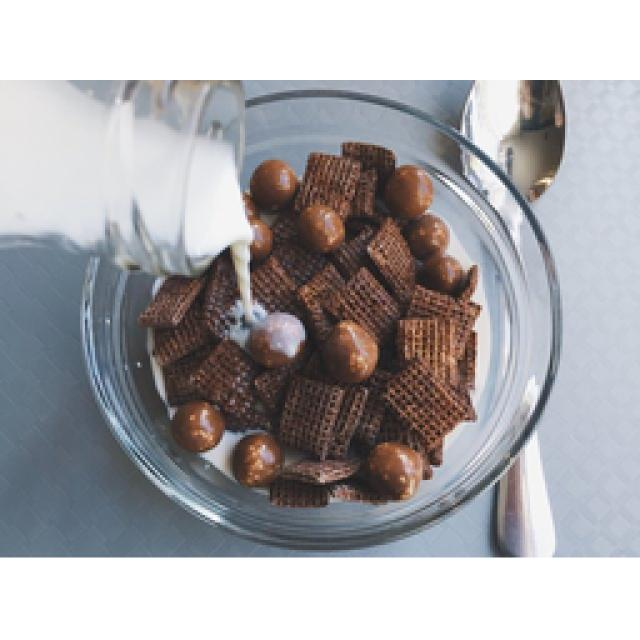alumunium: (460, 80, 560, 200), (495, 432, 552, 552), (462, 155, 522, 248)
